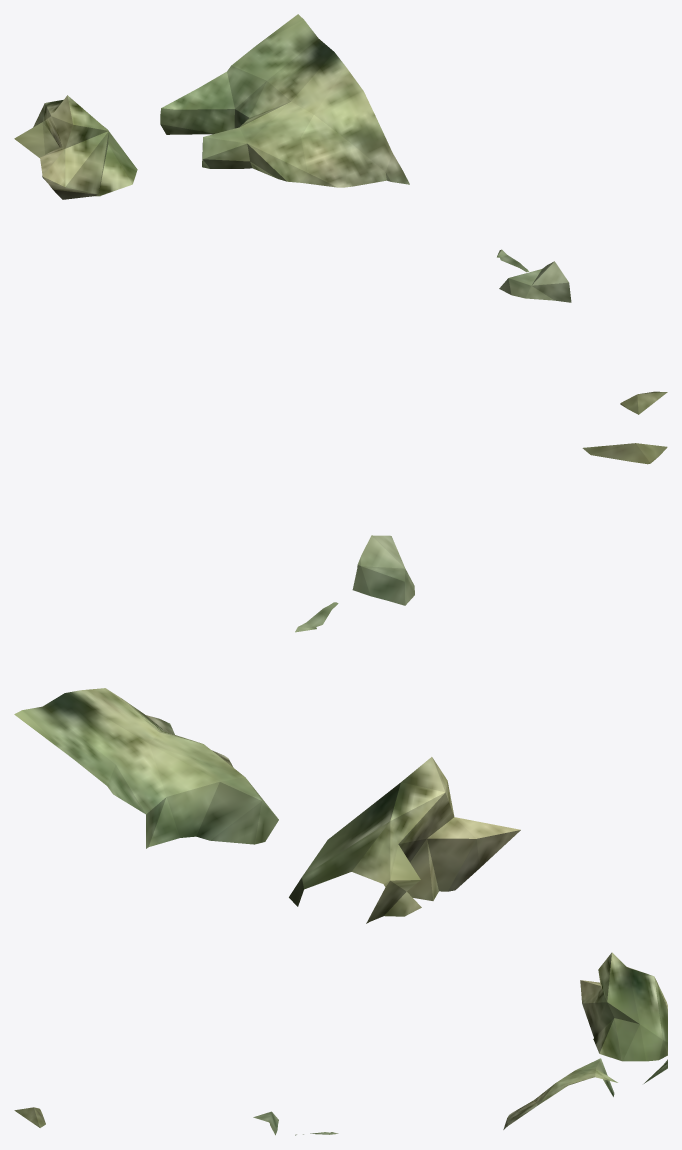
3 renders of one model, top to bottom at view 1: azimuth 30°, elevation 25°; view 2: azimuth 150°, elevation 25°; view 3: azimuth 270°, elevation 25°, orthographic. The views are drawn at different scales.
Size of the model in its own units: 7.71 by 2.32 by 17.45.
Materials: 1 (1 with a texture image).
